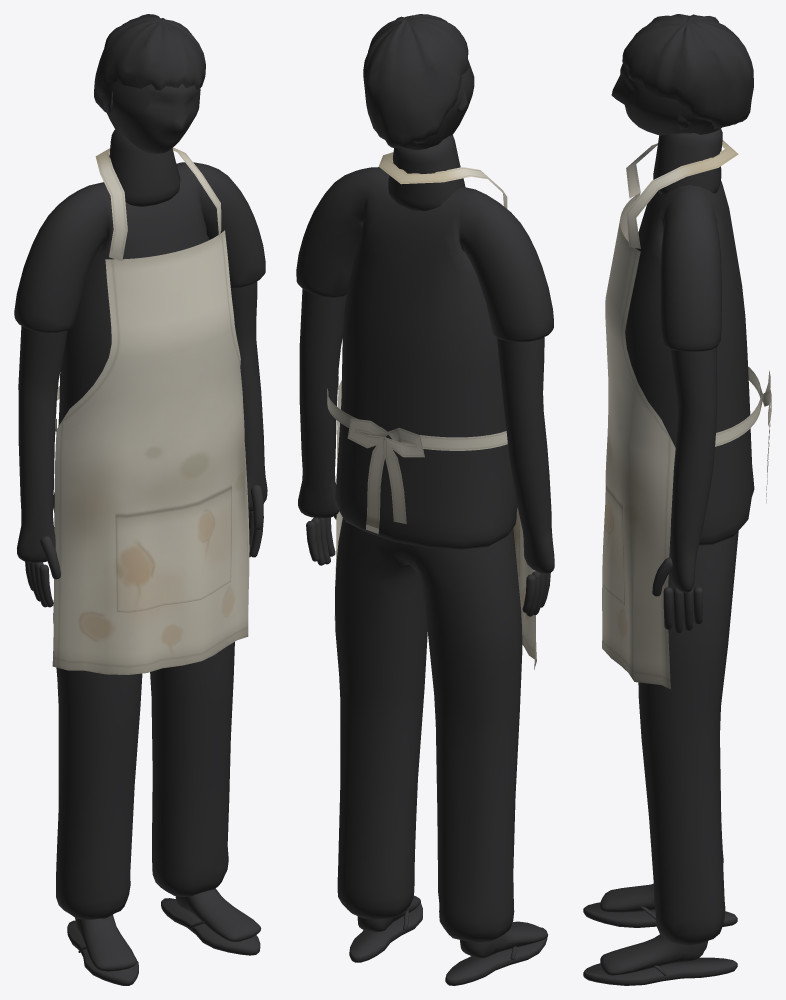
Rendered from figure.glb.
3 views of the same model, side by side, from view 1: azimuth 30°, elevation 25°; view 2: azimuth 150°, elevation 25°; view 3: azimuth 270°, elevation 25° (orthographic). The views are drawn at different scales.
Visible parts, largest first — view 1: Figure; view 2: Figure; view 3: Figure.
Part boxes in pixels (<box>): Figure: <box>14,14,267,985</box>; Figure: <box>296,14,554,985</box>; Figure: <box>583,14,771,985</box>.
Bounding box in the file's own units: 0.4916 × 1.72 × 0.3143.
2 materials, 1 textured.
